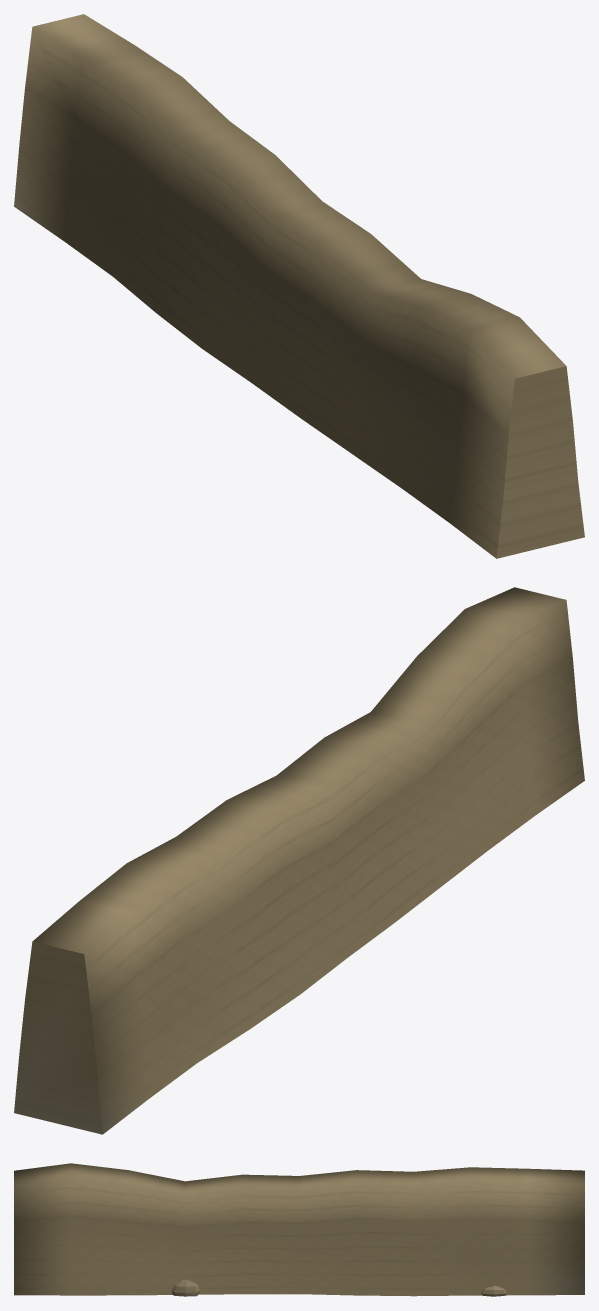
File: wall-earth-lod1.glb
3 views of the same model, one above another, from view 1: azimuth 30°, elevation 25°; view 2: azimuth 150°, elevation 25°; view 3: azimuth 270°, elevation 25° (orthographic). The views are drawn at different scales.
Bounding box in the file's own units: 0.1205 × 0.2164 × 1.
Materials: 1 (1 with a texture image).
